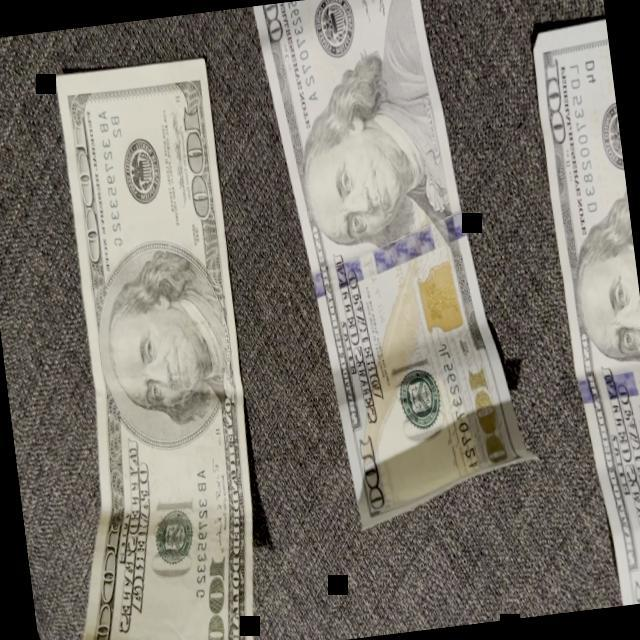hundred: (1, 52, 277, 640), (248, 0, 546, 538), (526, 16, 640, 608)
